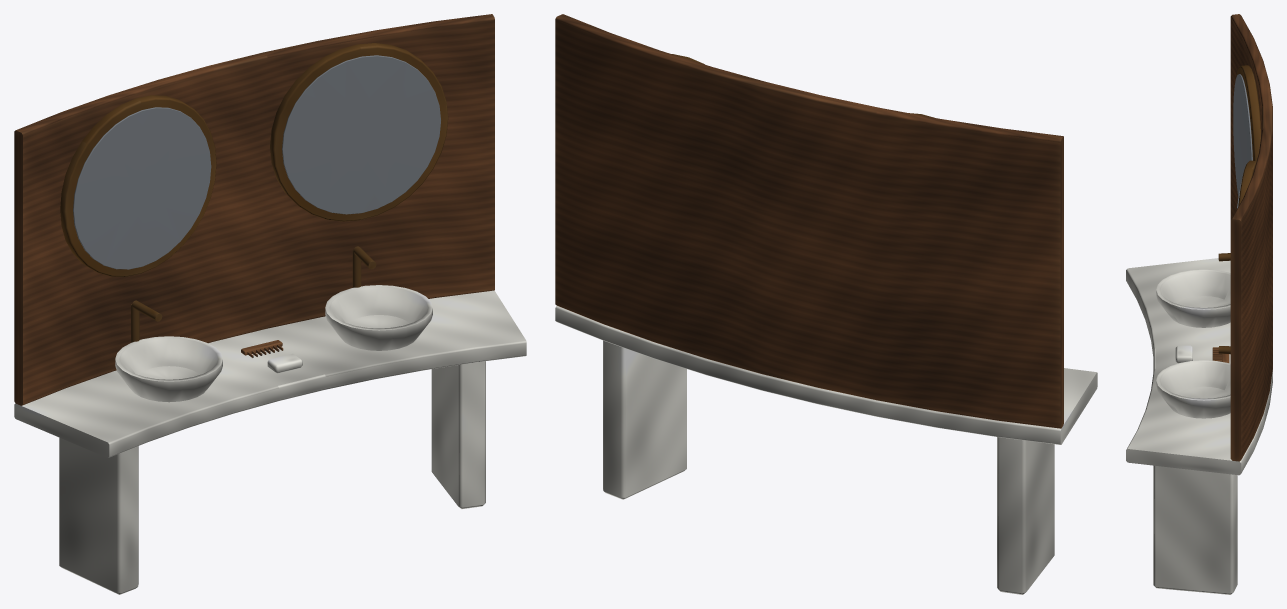
File: Furn_Washbasin_Arc.fbx
The picture shows the model from 3 angles, left to right: view 1: azimuth 30°, elevation 25°; view 2: azimuth 150°, elevation 25°; view 3: azimuth 270°, elevation 25°; orthographic projection. The views are drawn at different scales.
Parts seen in each view (by area): view 1: Furn_Washbasin_Arc; view 2: Furn_Washbasin_Arc; view 3: Furn_Washbasin_Arc.
Part boxes in pixels (<box>): Furn_Washbasin_Arc: <box>14,14,526,594</box>; Furn_Washbasin_Arc: <box>555,14,1097,594</box>; Furn_Washbasin_Arc: <box>1126,14,1272,594</box>.
Bounding box in the file's own units: 2.25 × 2 × 0.6776.
Materials: 4 (4 with a texture image).
